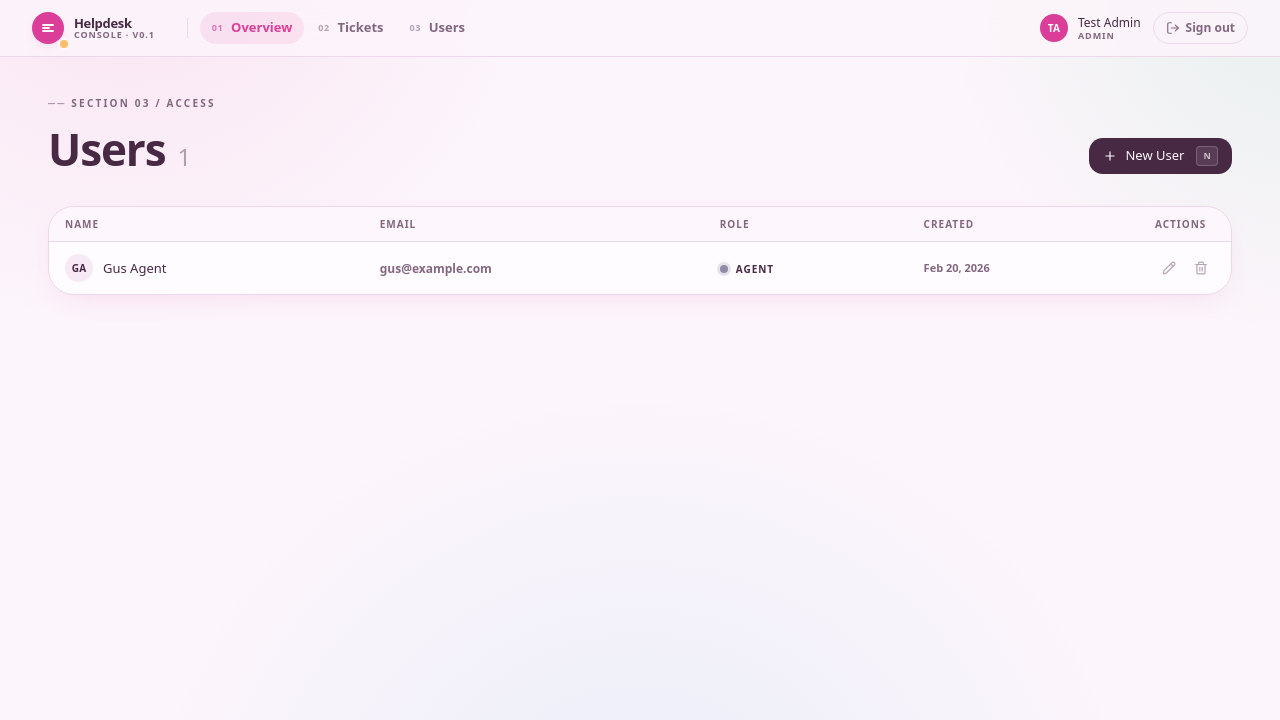
Test case: UsersPage — delete-user dialog › opens the confirm dialog naming the agent when their Delete button is clicked
The width and height of the screenshot is (1280, 720).
Expected: the text "Gus Agent" is shown, [103, 259, 166, 278]
Click the button named "delete gus agent".
click(1201, 268)  # box [1187, 254, 1215, 282]
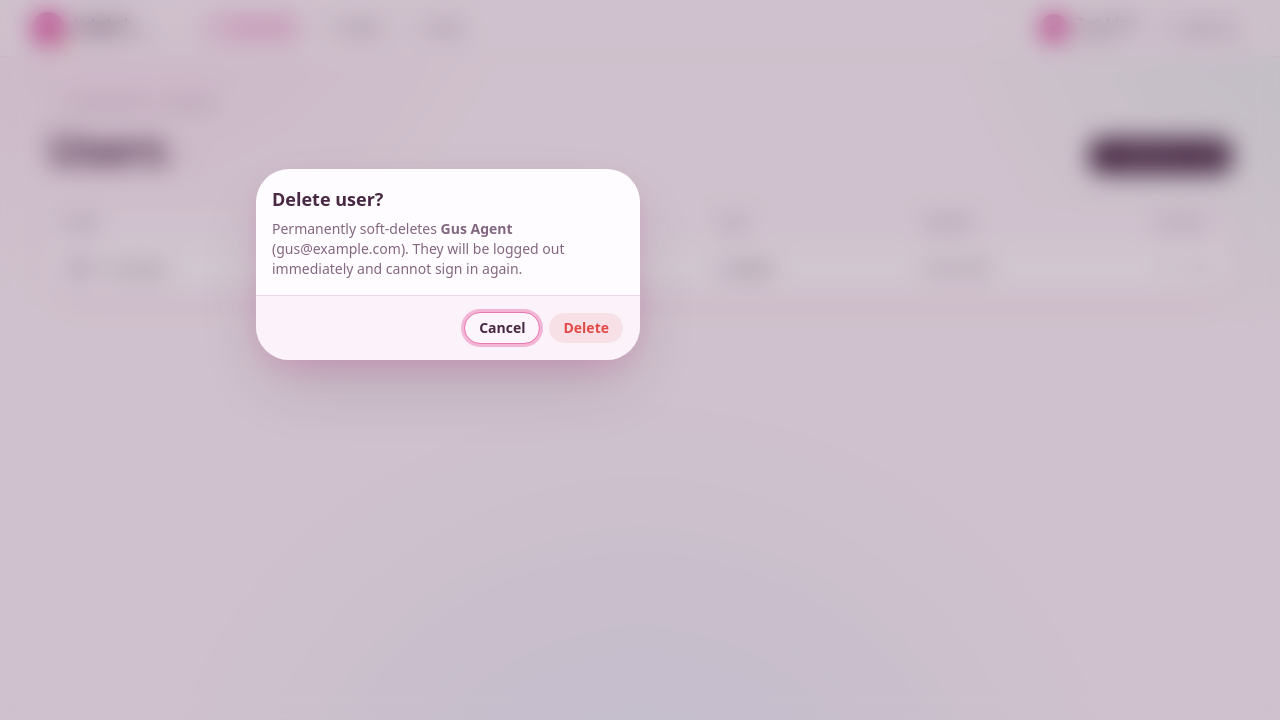
Result: the heading "Delete user?" is shown at [272, 185, 383, 213]
Result: the text "Gus Agent" is shown at [441, 219, 513, 238]
Result: the text "gus@example.com" is shown at [276, 239, 401, 258]
